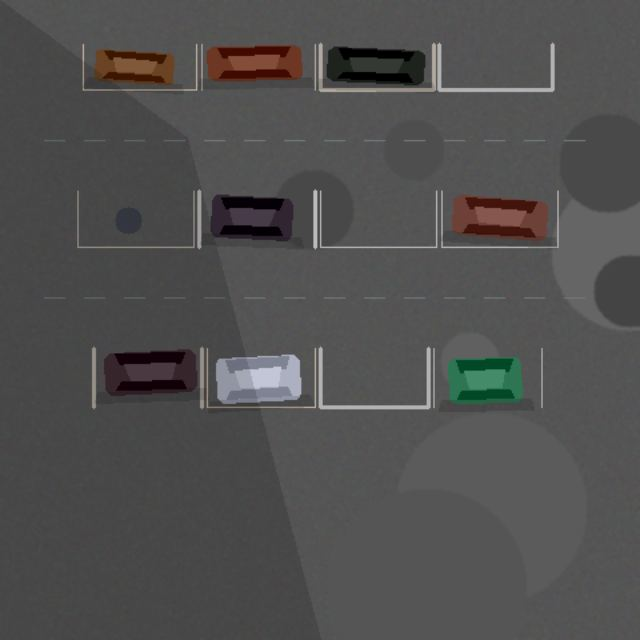space-empty: (77, 191, 193, 247), (320, 191, 436, 247), (320, 348, 428, 407), (439, 44, 552, 89)
space-occupied: (199, 191, 315, 247), (441, 191, 557, 247), (93, 348, 201, 407), (207, 348, 315, 407), (433, 348, 541, 407), (201, 44, 315, 89), (83, 44, 196, 89), (320, 44, 433, 89)
